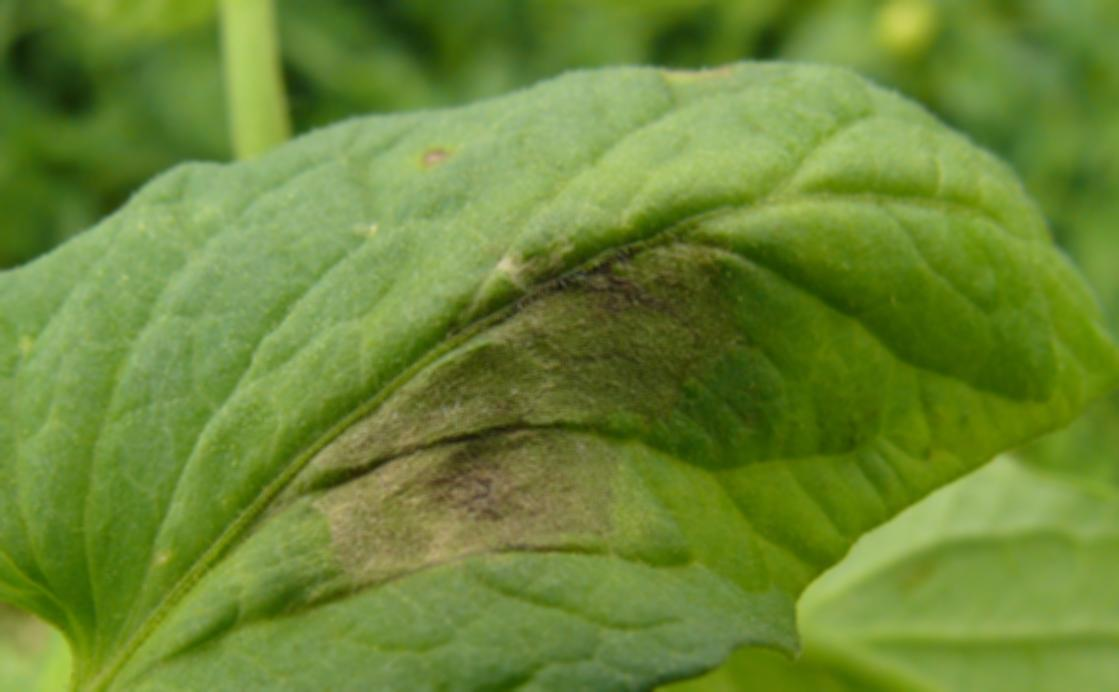Tomato leaf late blight: (0, 47, 1105, 692)
